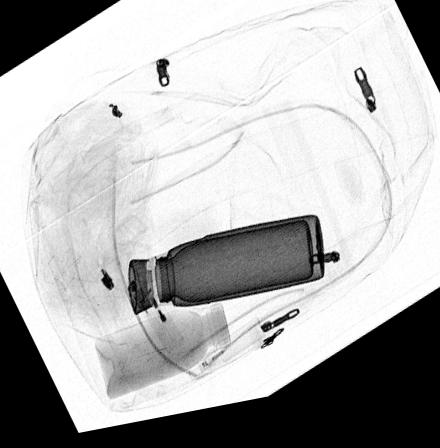Lighter: (128, 279, 182, 352)
